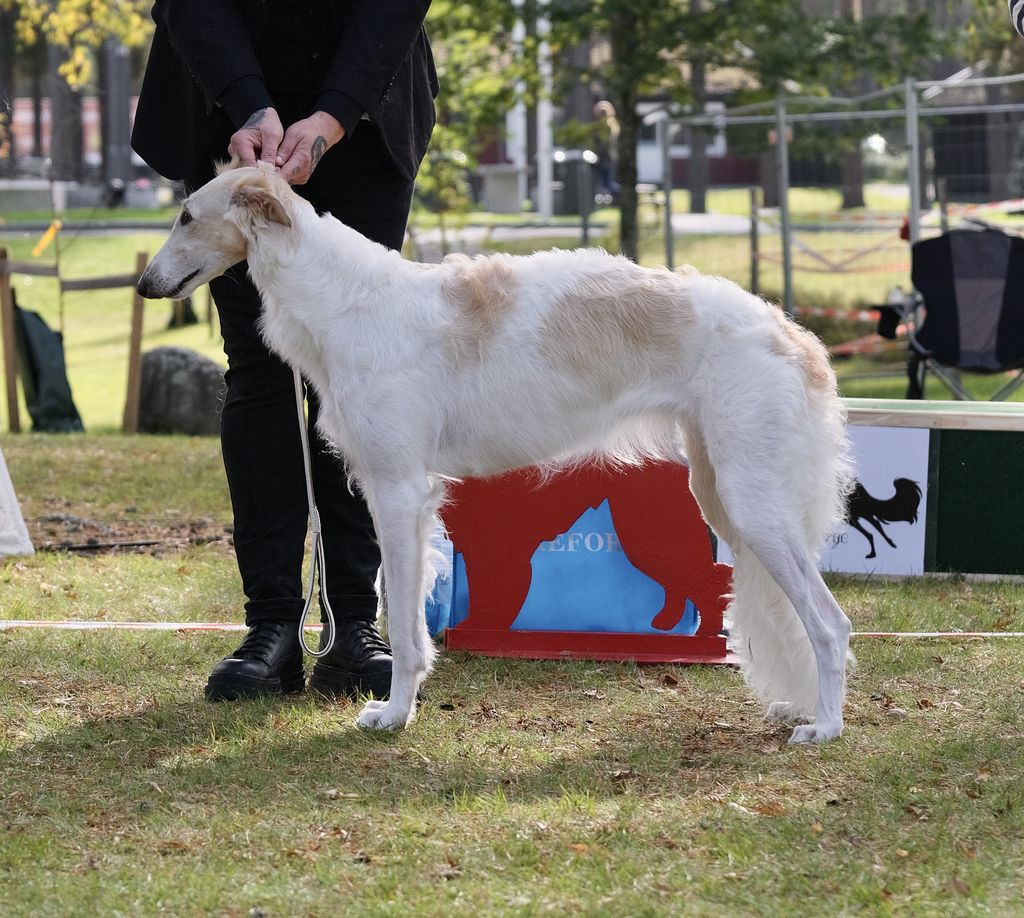borzoi: (126, 148, 891, 756)
